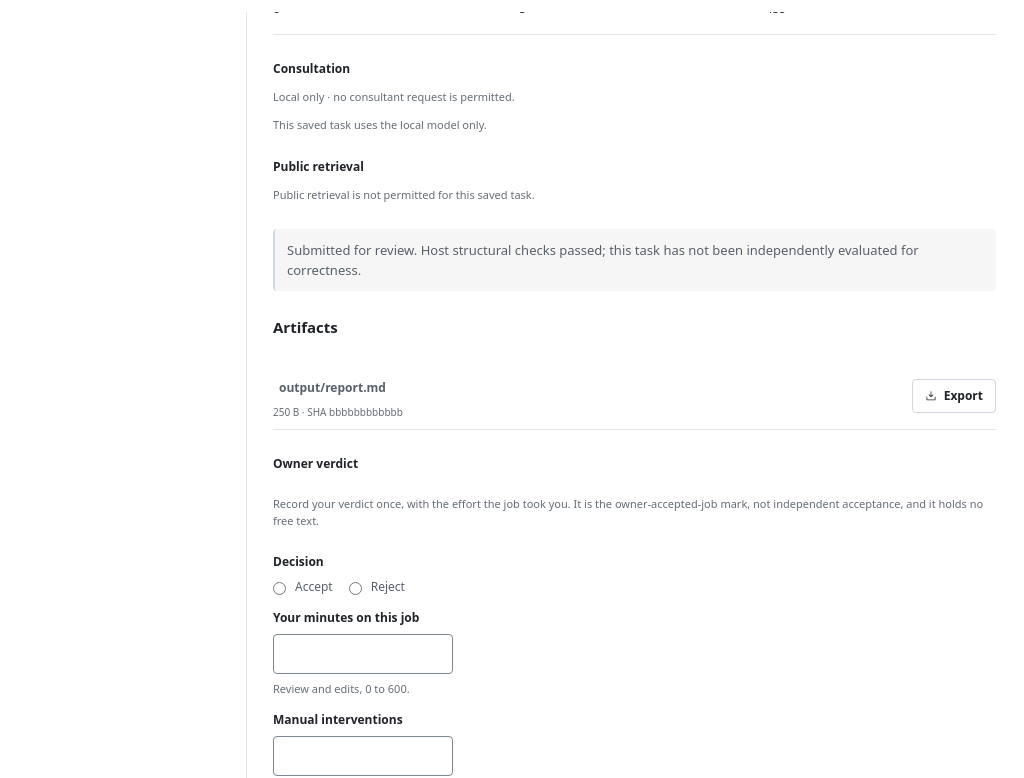
Test: general task workspace › marks scripted execution and treats cancelled native export as cancellation
(page scrolled)
Step 1. Click the button with aria-label "Export output/report.md" → (954, 396), box [912,379,996,413]
(page scrolled)
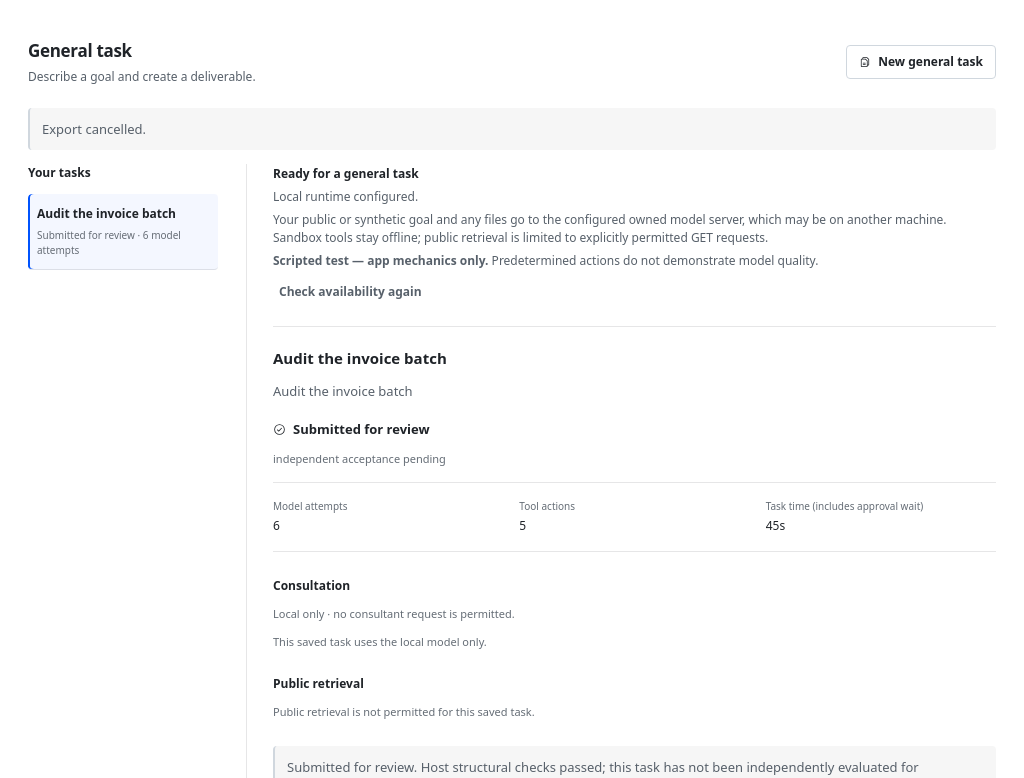
Check: the text "Export cancelled." is shown, box [28,108,996,150]
